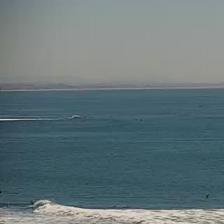surfer: (110, 204, 119, 208), (122, 205, 131, 208), (30, 200, 34, 204), (206, 194, 209, 198), (0, 190, 3, 194)
